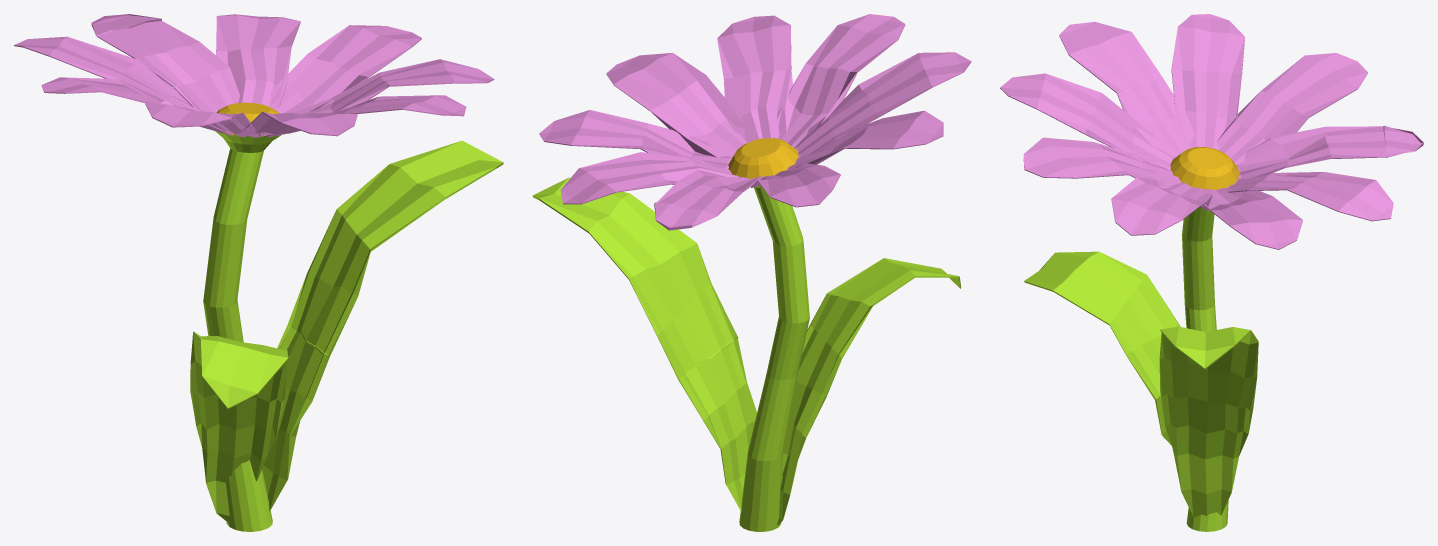
The model's file is low poly flower w leaf.fbx.
The picture shows the model from 3 angles, left to right: view 1: azimuth 30°, elevation 25°; view 2: azimuth 150°, elevation 25°; view 3: azimuth 270°, elevation 25°; orthographic projection. The views are drawn at different scales.
Parts seen in each view (by area): view 1: Circle, Circle.002, Circle.003, Circle.001; view 2: Circle, Circle.002, Circle.001, Circle.003; view 3: Circle, Circle.002, Circle.003, Circle.001.
Boxes of the visible parts, x1,y1,x2,y2 form: Circle: [14, 14, 494, 137]; Circle.002: [262, 140, 503, 510]; Circle.003: [190, 331, 288, 522]; Circle.001: [203, 102, 281, 531]; Circle: [539, 14, 971, 230]; Circle.002: [532, 177, 756, 511]; Circle.001: [728, 138, 809, 531]; Circle.003: [776, 258, 961, 525]; Circle: [1000, 14, 1423, 249]; Circle.002: [1159, 326, 1258, 517]; Circle.003: [1024, 251, 1180, 445]; Circle.001: [1170, 147, 1239, 531].
Bounding box in the file's own units: 1022 × 1051 × 933.
